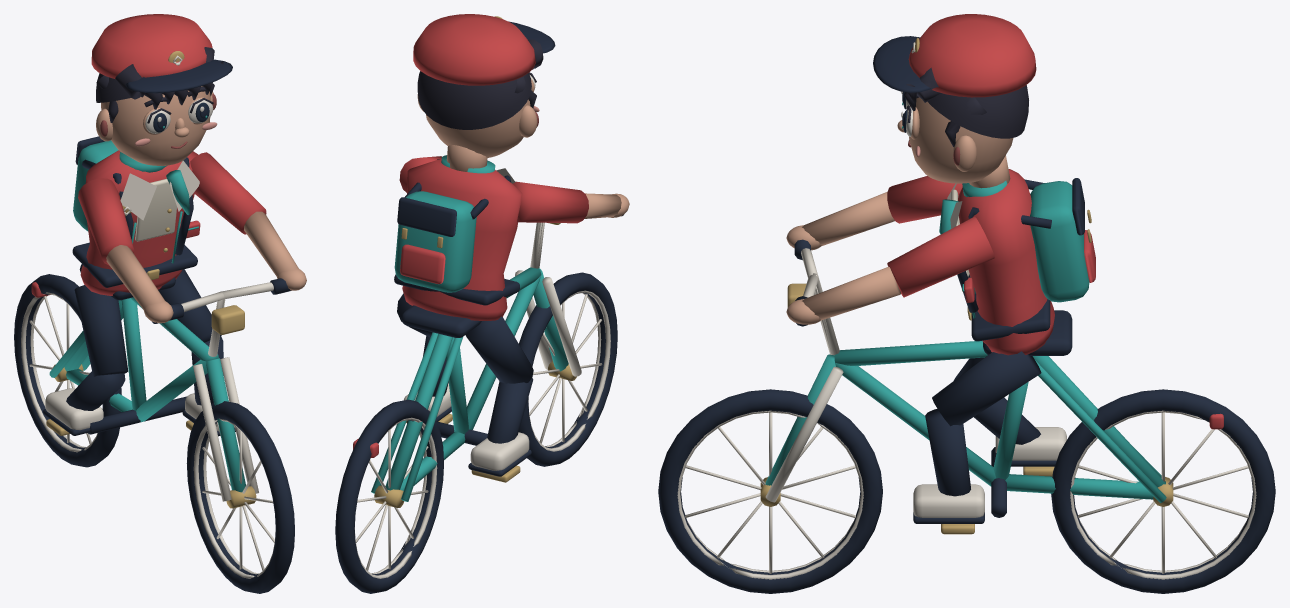
Rendered from xingyin-characters-v1__player_bicycle.glb.
The picture shows the model from 3 angles, left to right: view 1: azimuth 30°, elevation 25°; view 2: azimuth 150°, elevation 25°; view 3: azimuth 270°, elevation 25°; orthographic projection. The views are drawn at different scales.
Visible parts, largest first — view 1: head, bicycleFrame, body, riderArms, frontWheel, rearWheel, leftThigh, leftShoe, rightThigh, leftShin, rightShoe, rightShin; view 2: body, head, bicycleFrame, rearWheel, frontWheel, riderArms, leftThigh, leftShoe, leftShin, rightShoe; view 3: head, body, bicycleFrame, frontWheel, rearWheel, riderArms, rightThigh, rightShoe, rightShin, leftShoe, leftShin.
Boxes of the visible parts, box(x1,y1,x2,y2) form: head: box(91, 14, 232, 165); bicycleFrame: box(31, 264, 291, 501); body: box(72, 136, 200, 295); riderArms: box(78, 152, 306, 323); frontWheel: box(186, 401, 294, 593); rearWheel: box(14, 274, 121, 467); leftThigh: box(74, 285, 128, 376); leftShoe: box(43, 388, 103, 435); rightThigh: box(159, 269, 221, 342); leftShin: box(66, 371, 125, 410); rightShoe: box(182, 393, 235, 436); rightShin: box(191, 336, 223, 405); body: box(394, 145, 522, 320); head: box(413, 14, 555, 157); bicycleFrame: box(353, 181, 623, 501); rearWheel: box(335, 399, 443, 593); frontWheel: box(518, 272, 617, 466); riderArms: box(399, 156, 629, 223); leftThigh: box(465, 316, 533, 383); leftShoe: box(468, 432, 531, 482); leftShin: box(487, 378, 533, 443); rightShoe: box(404, 383, 452, 423); head: box(873, 14, 1036, 183); body: box(939, 155, 1095, 355); bicycleFrame: box(765, 239, 1223, 517); frontWheel: box(658, 389, 882, 593); rearWheel: box(1051, 389, 1275, 593); riderArms: box(786, 176, 994, 324); rightThigh: box(932, 351, 1041, 426); rightShoe: box(913, 484, 984, 534); rightShin: box(925, 409, 970, 496); leftShoe: box(995, 427, 1066, 476); leftShin: box(974, 397, 1040, 444).
Size of the model in its own units: 0.6039 by 1.75 by 1.73.
